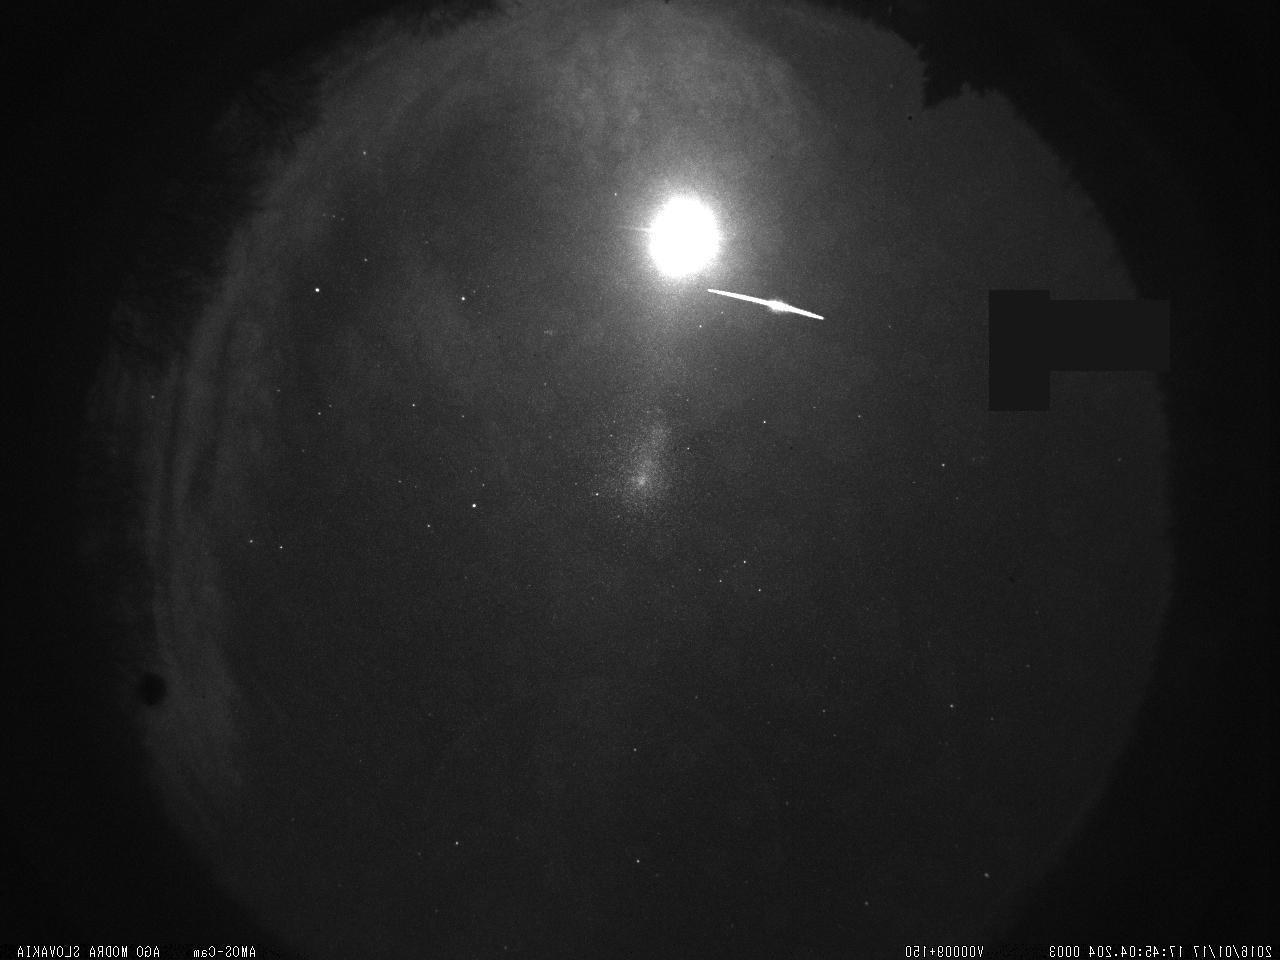meteor: (692, 267, 839, 334)
